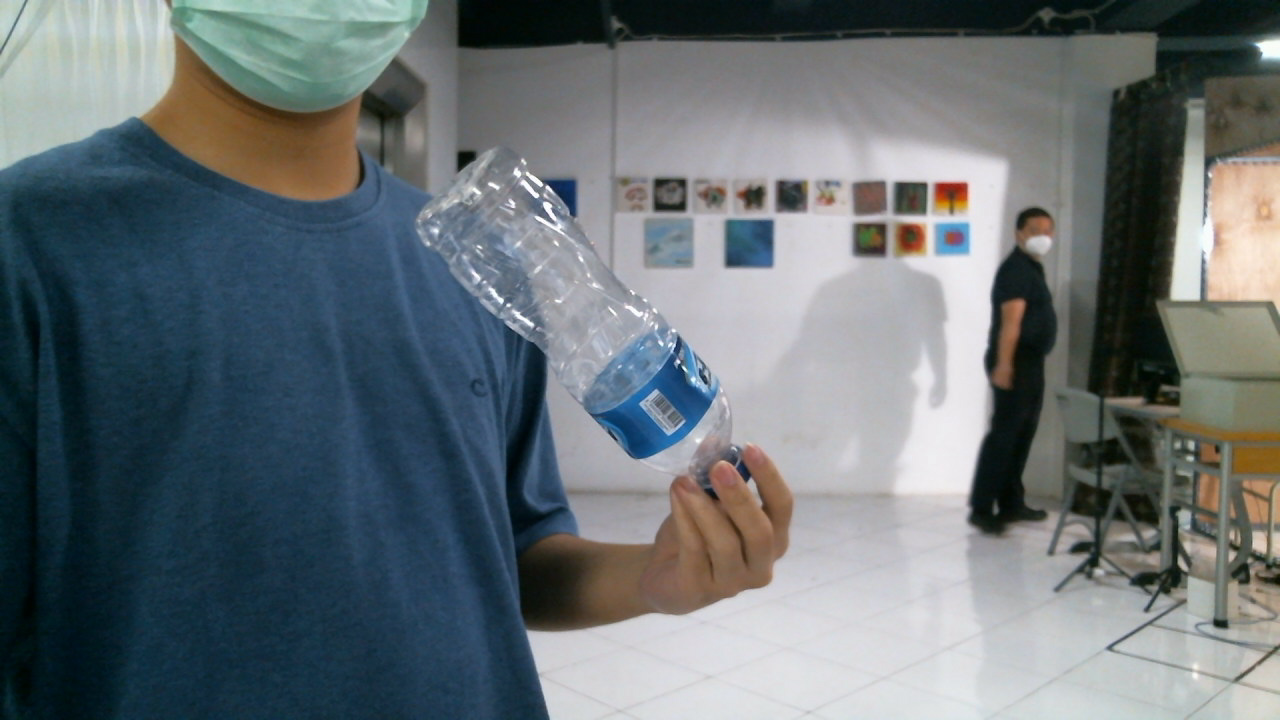Bottle: (406, 142, 754, 496)
